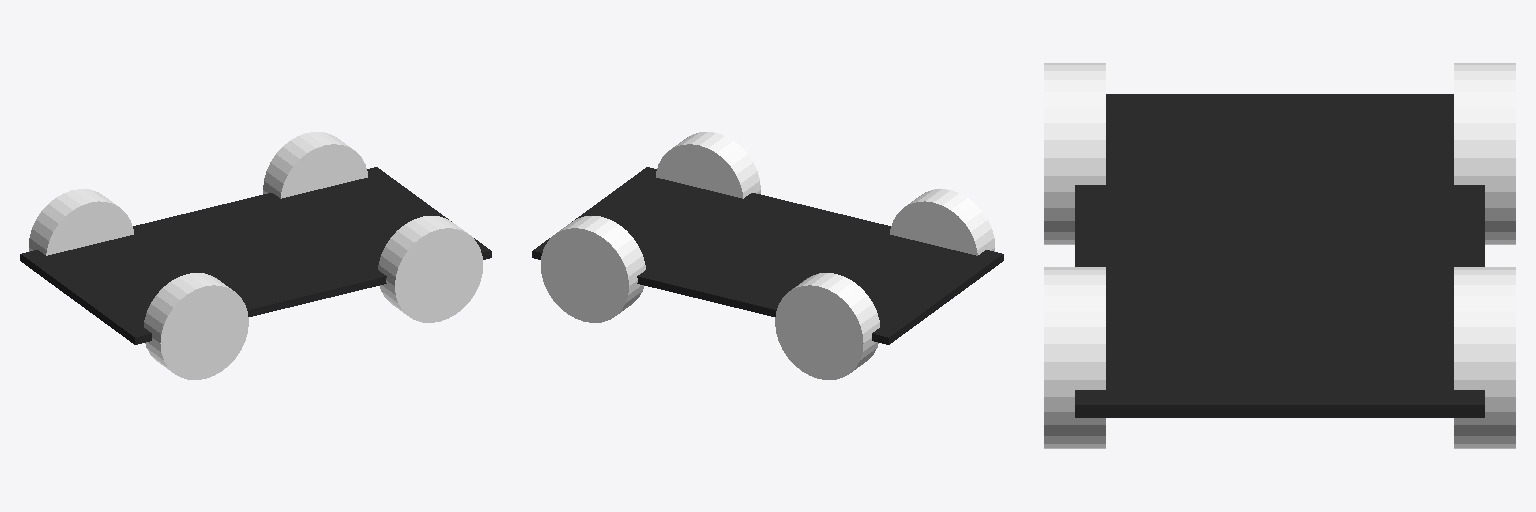
URDF robot description (mevi):
<?xml version="1.0" ?>
<!-- =================================================================================== -->
<!-- |    This document was autogenerated by xacro from mevi_description.urdf.xacro    | -->
<!-- |    EDITING THIS FILE BY HAND IS NOT RECOMMENDED                                 | -->
<!-- =================================================================================== -->
<robot name="mevi">
  <!-- my name is Mevi-->
  <!-- variable -->
  <material name="chassis_mat">
    <color rgba="0.2 0.2 0.2 1"/>
    <!-- grey -->
  </material>
  <material name="tire_mat">
    <color rgba="1 1 1 1"/>
  </material>
  <gazebo reference="front_right_wheel">
    <mu1>0.95</mu1>
    <mu2>0.95</mu2>
    <minDepth>0.005</minDepth>
    <kp>1e8</kp>
    <material>Gazebo/Black</material>
  </gazebo>
  <gazebo reference="front_left_wheel">
    <mu1>0.95</mu1>
    <mu2>0.95</mu2>
    <minDepth>0.005</minDepth>
    <kp>1e8</kp>
    <material>Gazebo/Black</material>
  </gazebo>
  <gazebo reference="rear_right_wheel">
    <mu1>0.95</mu1>
    <mu2>0.95</mu2>
    <minDepth>0.005</minDepth>
    <kp>1e8</kp>
    <material>Gazebo/Black</material>
  </gazebo>
  <gazebo reference="rear_left_wheel">
    <mu1>0.95</mu1>
    <mu2>0.95</mu2>
    <minDepth>0.005</minDepth>
    <kp>1e8</kp>
    <material>Gazebo/Black</material>
  </gazebo>
  <!-- my name is Mevi-->
  <!-- variable -->
  <link name="fl_axle">
    <inertial>
      <mass value="1"/>
      <origin xyz="0 0 0"/>
      <inertia ixx="0.004" ixy="0.0" ixz="0.0" iyy="0.004" iyz="0.0" izz="0.004"/>
    </inertial>
  </link>
  <link name="fr_axle">
    <inertial>
      <mass value="1"/>
      <origin xyz="0 0 0"/>
      <inertia ixx="0.004" ixy="0.0" ixz="0.0" iyy="0.004" iyz="0.0" izz="0.004"/>
    </inertial>
  </link>
  <link name="front_right_wheel">
    <visual>
      <origin rpy="0 0 0" xyz="0 0 0"/>
      <geometry>
        <cylinder length="0.125" radius="0.185"/>
      </geometry>
      <material name="tire_mat"/>
    </visual>
    <collision>
      <origin rpy="0 0 0" xyz="0 0 0"/>
      <geometry>
        <cylinder length="0.125" radius="0.185"/>
      </geometry>
    </collision>
    <inertial>
      <origin rpy="0 0 0" xyz="0 0 0"/>
      <mass value="10.0"/>
      <inertia ixx="0.09858333333333331" ixy="0.0" ixz="0.0" iyy="0.09858333333333331" iyz="0.0" izz="0.171125"/>
    </inertial>
  </link>
  <link name="front_left_wheel">
    <visual>
      <origin rpy="0 0 0" xyz="0 0 0"/>
      <geometry>
        <cylinder length="0.125" radius="0.185"/>
      </geometry>
      <material name="tire_mat"/>
    </visual>
    <collision>
      <origin rpy="0 0 0" xyz="0 0 0"/>
      <geometry>
        <cylinder length="0.125" radius="0.185"/>
      </geometry>
    </collision>
    <inertial>
      <origin rpy="0 0 0" xyz="0 0 0"/>
      <mass value="10.0"/>
      <inertia ixx="0.09858333333333331" ixy="0.0" ixz="0.0" iyy="0.09858333333333331" iyz="0.0" izz="0.171125"/>
    </inertial>
  </link>
  <link name="rear_right_wheel">
    <visual>
      <origin rpy="0 0 0" xyz="0 0 0"/>
      <geometry>
        <cylinder length="0.125" radius="0.185"/>
      </geometry>
      <material name="tire_mat"/>
    </visual>
    <collision>
      <origin rpy="0 0 0" xyz="0 0 0"/>
      <geometry>
        <cylinder length="0.125" radius="0.185"/>
      </geometry>
    </collision>
    <inertial>
      <origin rpy="0 0 0" xyz="0 0 0"/>
      <mass value="10.0"/>
      <inertia ixx="0.09858333333333331" ixy="0.0" ixz="0.0" iyy="0.09858333333333331" iyz="0.0" izz="0.171125"/>
    </inertial>
  </link>
  <link name="rear_left_wheel">
    <visual>
      <origin rpy="0 0 0" xyz="0 0 0"/>
      <geometry>
        <cylinder length="0.125" radius="0.185"/>
      </geometry>
      <material name="tire_mat"/>
    </visual>
    <collision>
      <origin rpy="0 0 0" xyz="0 0 0"/>
      <geometry>
        <cylinder length="0.125" radius="0.185"/>
      </geometry>
    </collision>
    <inertial>
      <origin rpy="0 0 0" xyz="0 0 0"/>
      <mass value="10.0"/>
      <inertia ixx="0.09858333333333331" ixy="0.0" ixz="0.0" iyy="0.09858333333333331" iyz="0.0" izz="0.171125"/>
    </inertial>
  </link>
  <!-- my name is Mevi-->
  <!-- variable -->
  <link name="world">
    <visual>
      <origin rpy="0 0 0" xyz="0 0 0"/>
      <geometry>
        <box size="0.001 0.001 0.001"/>
      </geometry>
    </visual>
  </link>
  <joint name="world_to_vehicle_center" type="fixed">
    <parent link="world"/>
    <child link="chassis"/>
    <origin xyz="0.0 0.0 0.085"/>
    <axis xyz="0 0 1"/>
  </joint>
  <link name="chassis" type="fixed">
    <visual>
      <origin rpy="0 0 0" xyz="0 0 0"/>
      <geometry>
        <box size="1.49 0.83 0.03"/>
      </geometry>
      <material name="chassis_mat"/>
    </visual>
  </link>
  <joint name="front_right_steer_joint" type="revolute">
    <parent link="chassis"/>
    <child link="fr_axle"/>
    <origin rpy="1.57079633 0 0" xyz="-0.49 0.415 0"/>
    <axis xyz="0 1 0"/>
    <limit effort="500000" lower="-0.785398" upper="0.785398" velocity="250"/>
  </joint>
  <joint name="front_right_wheel_joint" type="continuous">
    <parent link="fr_axle"/>
    <child link="front_right_wheel"/>
    <origin rpy="0 0 0" xyz="0 0 0"/>
    <axis xyz="0 0 -1"/>
  </joint>
  <joint name="front_left_steer_joint" type="revolute">
    <parent link="chassis"/>
    <child link="fl_axle"/>
    <origin rpy="1.57079633 0 0" xyz="-0.49 -0.415 0"/>
    <axis xyz="0 1 0"/>
    <limit effort="500000" lower="-0.785398" upper="0.785398" velocity="250"/>
  </joint>
  <joint name="front_left_wheel_joint" type="continuous">
    <parent link="fl_axle"/>
    <child link="front_left_wheel"/>
    <origin rpy="0 0 0" xyz="0 0 0"/>
    <axis xyz="0 0 -1"/>
  </joint>
  <joint name="rear_right_wheel_joint" type="continuous">
    <parent link="chassis"/>
    <child link="rear_right_wheel"/>
    <origin rpy="1.57079633 0 0" xyz="0.49 0.415 0"/>
    <axis xyz="0 0 -1"/>
  </joint>
  <joint name="rear_left_wheel_joint" type="continuous">
    <parent link="chassis"/>
    <child link="rear_left_wheel"/>
    <origin rpy="1.57079633 0 0" xyz="0.49 -0.415 0"/>
    <axis xyz="0 0 -1"/>
  </joint>
  <gazebo>
    <plugin filename="libSdControlPlugin.so" name="sd_control">
      <chassis>base_link</chassis>
      <front_left_wheel>front_left_wheel_joint</front_left_wheel>
      <front_right_wheel>front_right_wheel_joint</front_right_wheel>
      <front_left_wheel_steering>front_left_steer_joint</front_left_wheel_steering>
      <front_right_wheel_steering>front_right_steer_joint</front_right_wheel_steering>
      <back_left_wheel>rear_left_wheel_joint</back_left_wheel>
      <back_right_wheel>rear_right_wheel_joint</back_right_wheel>
      <fl_wheel_steering_p_gain>1e4</fl_wheel_steering_p_gain>
      <fr_wheel_steering_p_gain>1e4</fr_wheel_steering_p_gain>
      <fl_wheel_steering_i_gain>0</fl_wheel_steering_i_gain>
      <fr_wheel_steering_i_gain>0</fr_wheel_steering_i_gain>
      <fl_wheel_steering_d_gain>3e2</fl_wheel_steering_d_gain>
      <fr_wheel_steering_d_gain>3e2</fr_wheel_steering_d_gain>
      <max_speed>22</max_speed>
      <max_torque>250</max_torque>
      <front_brake_torque>260</front_brake_torque>
      <back_brake_torque>260</back_brake_torque>
      <chassis_aero_force_gain>0.63045</chassis_aero_force_gain>
    </plugin>
  </gazebo>
  <gazebo>
    <plugin filename="libgazebo_ros_p3d.so" name="p3d">
      <bodyName>base_link</bodyName>
      <topicName>base_pose_ground_truth</topicName>
      <frameName>map</frameName>
      <updateRate>100.0</updateRate>
    </plugin>
  </gazebo>
  <gazebo>
    <plugin filename="libgazebo_ros_joint_state_publisher.so" name="joint_state_publisher">
      <robotNamespace>/mevi</robotNamespace>
      <jointName>front_left_wheel_joint, front_right_wheel_joint, front_left_steer_joint, front_right_steer_joint, rear_left_wheel_joint, rear_right_wheel_joint</jointName>
      <updateRate>100.0</updateRate>
      <alwaysOn>true</alwaysOn>
    </plugin>
  </gazebo>
</robot>

--- Facts derived from the render (not from the file) ---
3 views of the same robot in one strip: view 1: azimuth 30°, elevation 25°; view 2: azimuth 150°, elevation 25°; view 3: azimuth 270°, elevation 25° (orthographic).
Robot: mevi — 8 links, 7 joints (2 revolute, 4 continuous, 1 fixed); root link world; default pose: every joint at zero.
Visible links, largest first — view 1: chassis, front_left_wheel, rear_left_wheel, rear_right_wheel, front_right_wheel; view 2: chassis, front_right_wheel, rear_right_wheel, rear_left_wheel, front_left_wheel; view 3: chassis, rear_right_wheel, rear_left_wheel, front_right_wheel, front_left_wheel.
Boxes of the visible links, x1,y1,x2,y2 form: chassis: (20, 167, 491, 344); front_left_wheel: (144, 273, 248, 379); rear_left_wheel: (378, 216, 482, 322); rear_right_wheel: (263, 132, 367, 198); front_right_wheel: (29, 189, 133, 255); chassis: (532, 167, 1003, 344); front_right_wheel: (775, 273, 879, 379); rear_right_wheel: (541, 216, 645, 322); rear_left_wheel: (656, 132, 760, 198); front_left_wheel: (890, 189, 994, 255); chassis: (1075, 94, 1484, 417); rear_right_wheel: (1454, 267, 1515, 448); rear_left_wheel: (1044, 267, 1105, 448); front_right_wheel: (1454, 63, 1515, 244); front_left_wheel: (1044, 63, 1105, 244).
Bounding box of the posed robot: 1.49 × 0.955 × 0.37 m (x, y, z).
Geometry: primitives only (box / cylinder / sphere), no mesh files.
